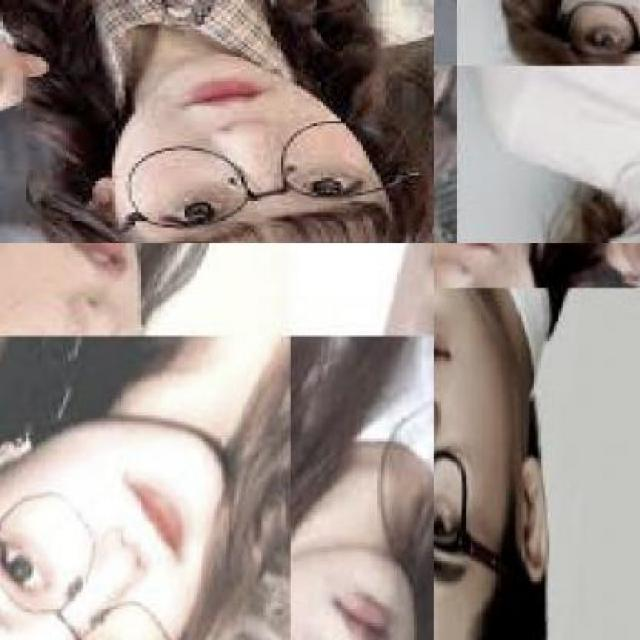glasses: (111, 102, 427, 242), (0, 498, 178, 638), (434, 390, 520, 632), (548, 0, 638, 66)
